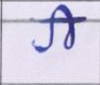i_matra: (55, 4, 77, 49)
